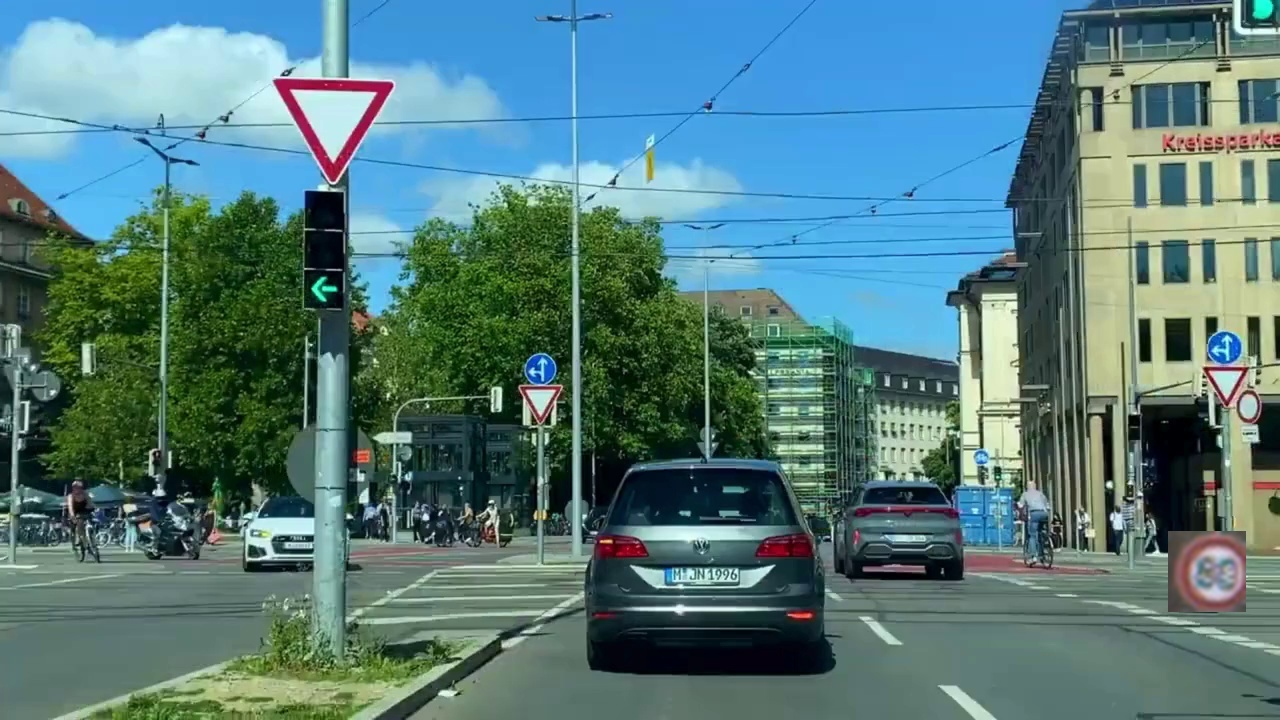Speed 80: (1168, 531, 1246, 612)
